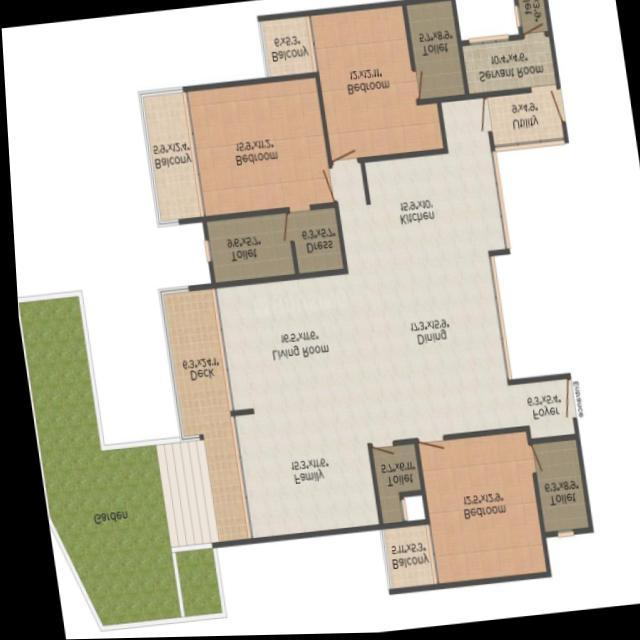Balcony-Sitout: (132, 85, 202, 226), (371, 526, 428, 596), (256, 14, 313, 77)
Bedroom: (304, 0, 426, 166), (455, 31, 558, 101)
Bedroom with Toilet: (183, 71, 344, 288), (409, 425, 585, 589)
Dining: (336, 252, 511, 451)
Dress: (282, 200, 342, 278)
Kitchen: (359, 149, 505, 267)
Living: (208, 275, 375, 545)
Toilet: (196, 208, 293, 285), (522, 433, 586, 541), (404, 0, 468, 105), (359, 442, 421, 533), (512, 0, 550, 40)
Utility: (478, 80, 567, 152)
